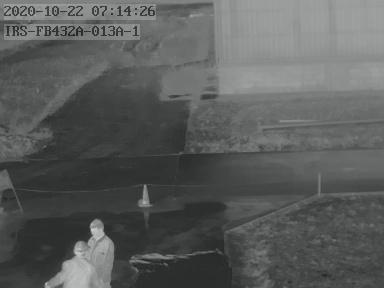person: (84, 219, 116, 288), (47, 238, 88, 288)
